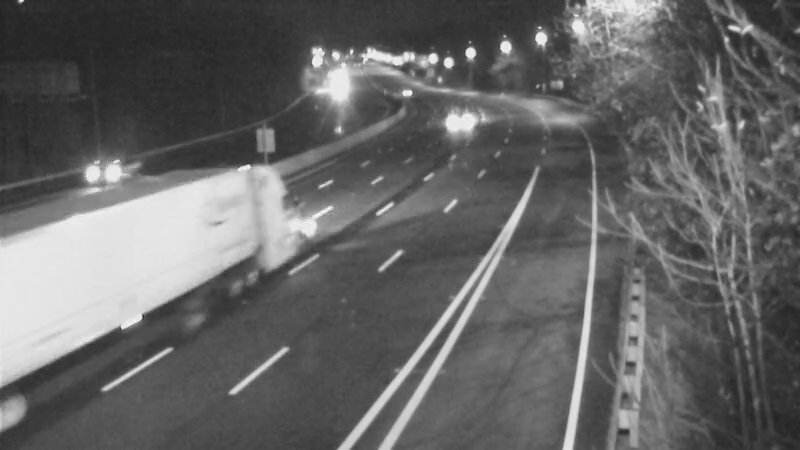vehicle: (206, 198, 286, 278), (64, 128, 144, 208), (378, 69, 428, 119), (434, 96, 484, 146), (314, 65, 364, 115)
